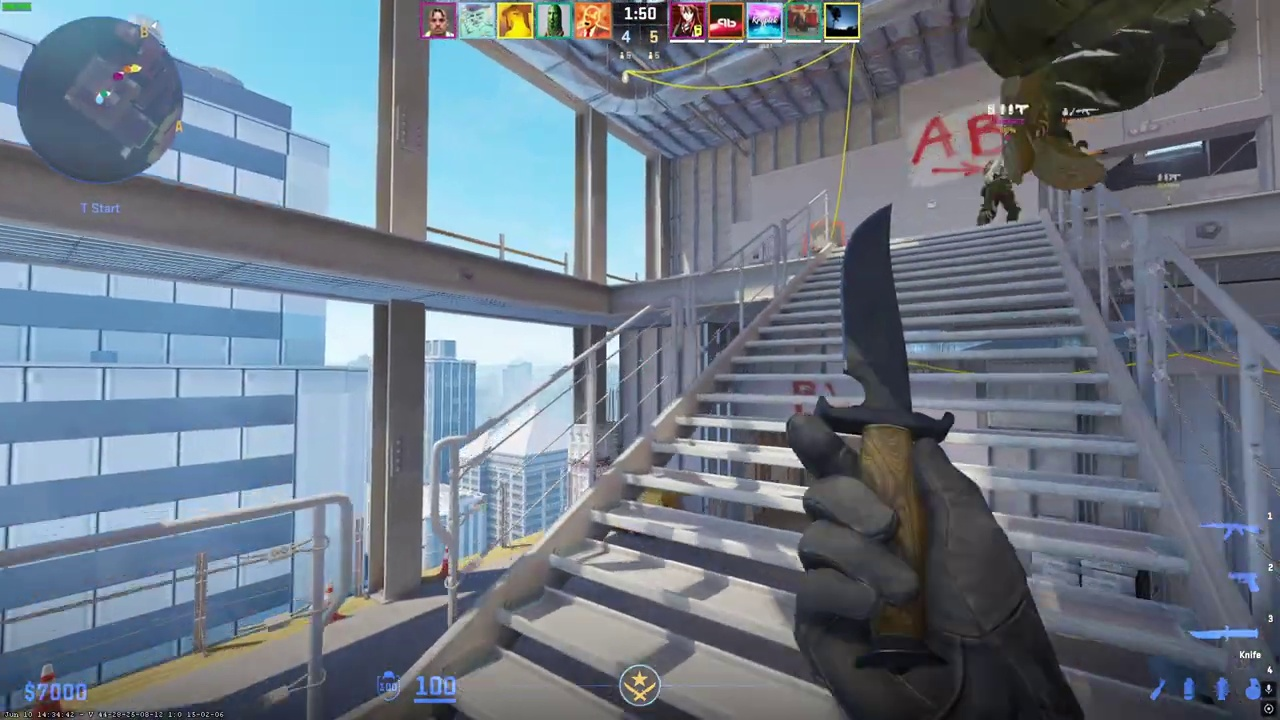Terrorist: (976, 154, 1021, 225)
